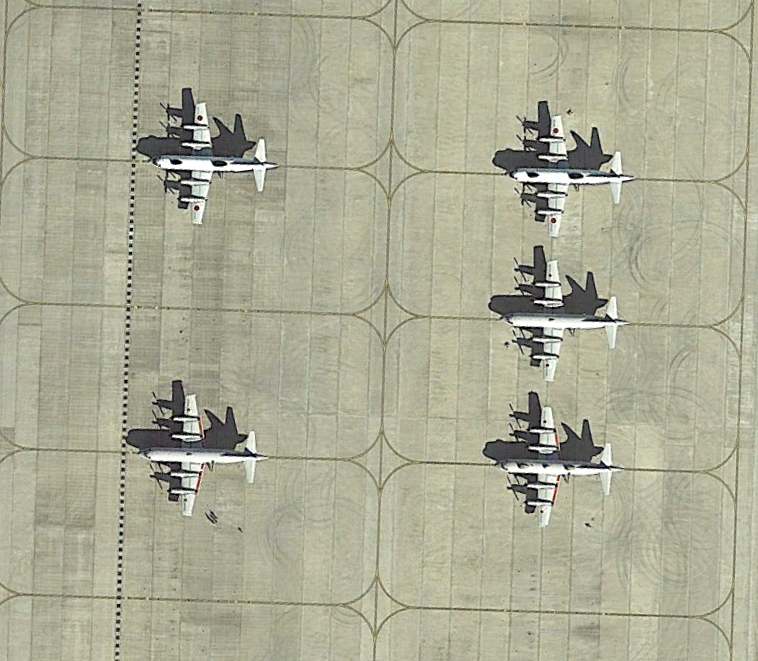A9: (148, 94, 290, 231), (505, 103, 646, 239), (135, 393, 276, 529), (497, 252, 638, 388), (495, 397, 636, 533)
